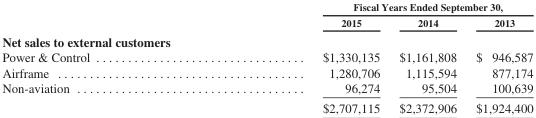table: (1, 0, 532, 115)
table column: (1, 0, 205, 115), (205, 0, 389, 115), (389, 0, 465, 115), (465, 0, 532, 115)
table column header: (1, 0, 532, 30)
table projected row header: (1, 30, 532, 49)
table row: (1, 30, 532, 49), (1, 79, 532, 97), (1, 97, 532, 115), (1, 14, 532, 30), (1, 49, 532, 64), (1, 64, 532, 79), (1, 0, 532, 14)
table spanning cell: (205, 0, 532, 14)
